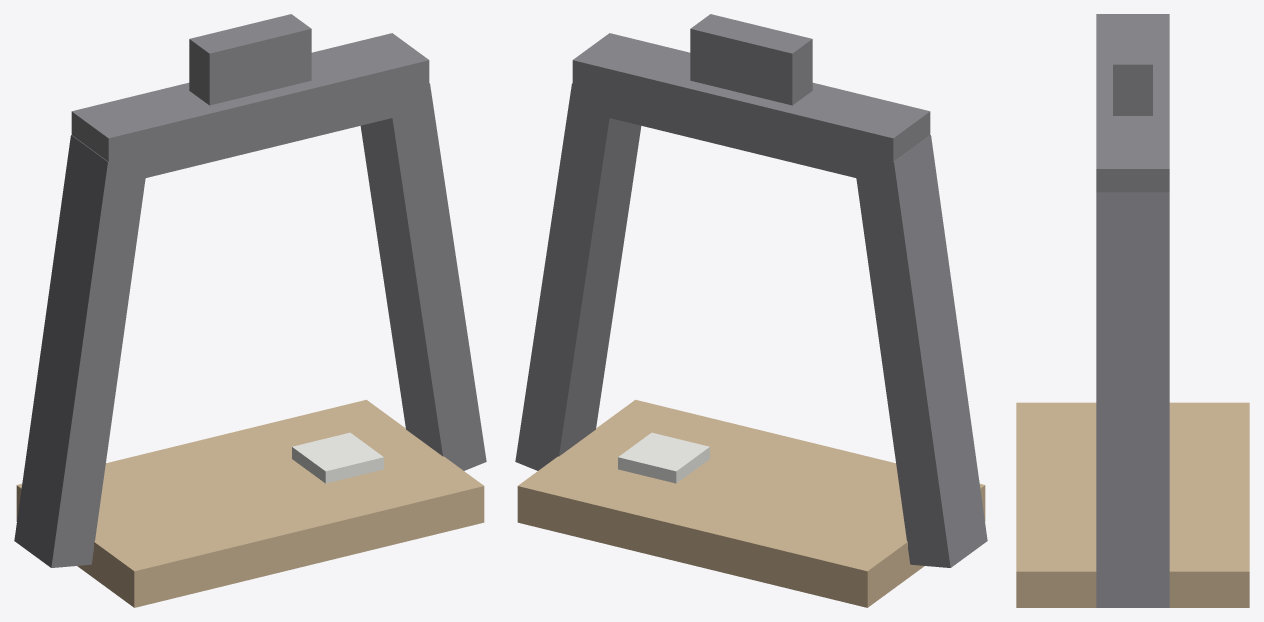
Rendered from prop-stirrup-blank.fbx.
The picture shows the model from 3 angles, left to right: view 1: azimuth 30°, elevation 25°; view 2: azimuth 150°, elevation 25°; view 3: azimuth 270°, elevation 25°; orthographic projection.
Parts seen in each view (by area): view 1: prop-stirrup-blank; view 2: prop-stirrup-blank; view 3: prop-stirrup-blank.
Part boxes in pixels (left/top/right/bottom): prop-stirrup-blank: left=14, top=14, right=486, bottom=607; prop-stirrup-blank: left=515, top=14, right=987, bottom=607; prop-stirrup-blank: left=1016, top=14, right=1249, bottom=607.
Size of the model in its own units: 14.93 by 16 by 7.
